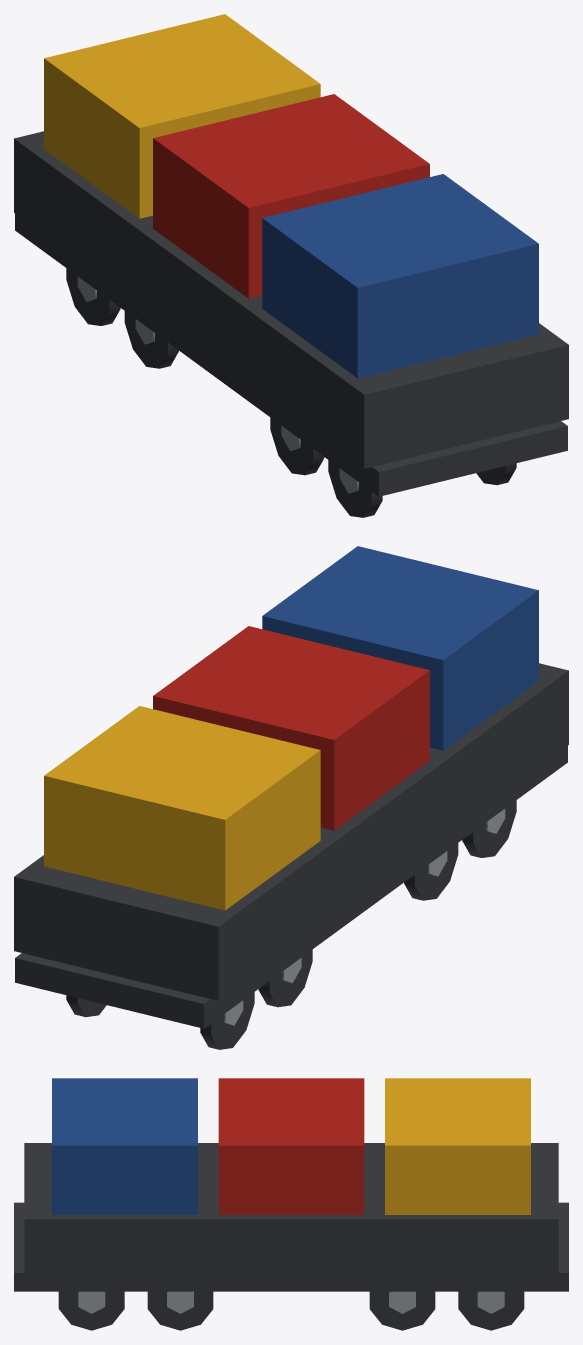
The model's file is veh_ground_rail_wagon_a05.glb.
The picture shows the model from 3 angles, top to bottom: view 1: azimuth 30°, elevation 25°; view 2: azimuth 150°, elevation 25°; view 3: azimuth 270°, elevation 25°; orthographic projection. The views are drawn at different scales.
Visible parts, largest first — view 1: body, wheel_6, wheel_0, wheel_2, wheel_4; view 2: body, wheel_0, wheel_4, wheel_6, wheel_2; view 3: body, wheel_1, wheel_7, wheel_3, wheel_5.
Boxes of the visible parts, x1,y1,x2,y2 form: body: [14, 14, 568, 496]; wheel_6: [328, 460, 382, 517]; wheel_0: [66, 268, 120, 325]; wheel_2: [124, 311, 178, 368]; wheel_4: [270, 417, 324, 475]; body: [14, 546, 568, 1028]; wheel_0: [200, 992, 254, 1049]; wheel_4: [404, 843, 458, 900]; wheel_6: [462, 800, 516, 857]; wheel_2: [258, 949, 312, 1007]; body: [14, 1078, 568, 1291]; wheel_1: [458, 1291, 524, 1330]; wheel_7: [58, 1291, 124, 1330]; wheel_3: [369, 1291, 435, 1330]; wheel_5: [147, 1291, 213, 1330].
Size of what is drawn, in the model's own units: 2.6 by 3.05 by 8.
